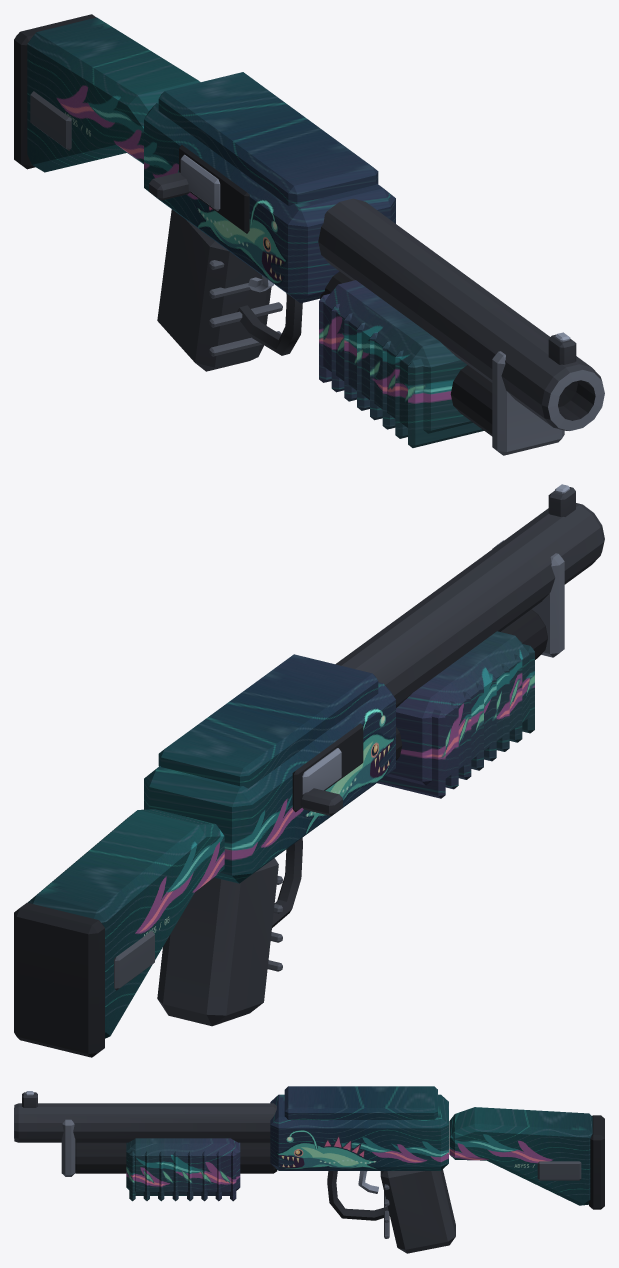
The model's file is Pump_Lanternfish.glb.
3 views of the same model, one above another, from view 1: azimuth 30°, elevation 25°; view 2: azimuth 150°, elevation 25°; view 3: azimuth 270°, elevation 25° (orthographic). The views are drawn at different scales.
Visible parts, largest first — view 1: Main, Stock, Pump, Bolt; view 2: Main, Stock, Pump, Bolt; view 3: Main, Stock, Pump.
Part boxes in pixels (x1,y1,x2,y2): Main: (144, 72, 604, 455); Stock: (14, 14, 200, 172); Pump: (319, 280, 483, 447); Bolt: (149, 154, 220, 210); Main: (144, 484, 604, 1026); Stock: (14, 809, 224, 1057); Pump: (377, 631, 534, 798); Bolt: (300, 748, 342, 815); Main: (14, 1086, 455, 1253); Stock: (449, 1107, 604, 1209); Pump: (126, 1138, 240, 1201).
Bounding box in the file's own units: 0.68 × 1.15 × 3.95.
2 materials, 1 textured.
